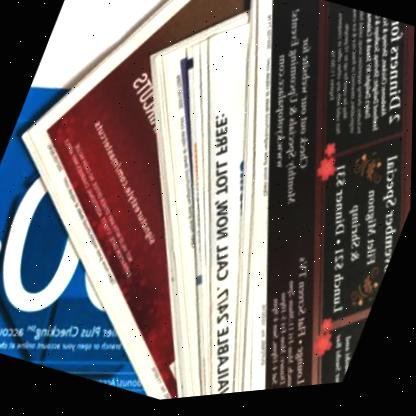Paper: (150, 0, 415, 402), (21, 0, 250, 403), (0, 87, 144, 398)
